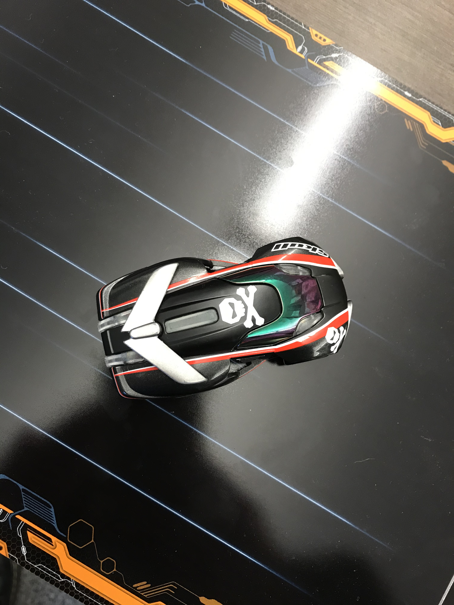Skull: (95, 235, 357, 403)
